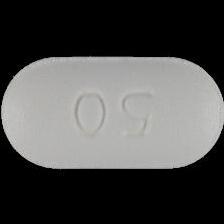51655-749: (0, 0, 224, 224)
